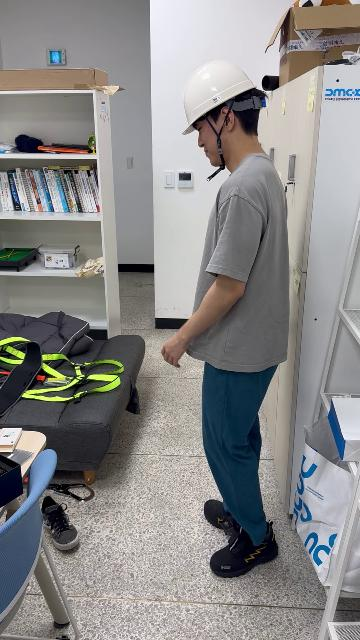helmet_worn: (180, 60, 260, 135)
shoe_not_worn: (40, 495, 80, 550)
shoe_worn: (209, 517, 278, 577), (203, 499, 240, 532)
vest_not_worn: (201, 171, 291, 386)
